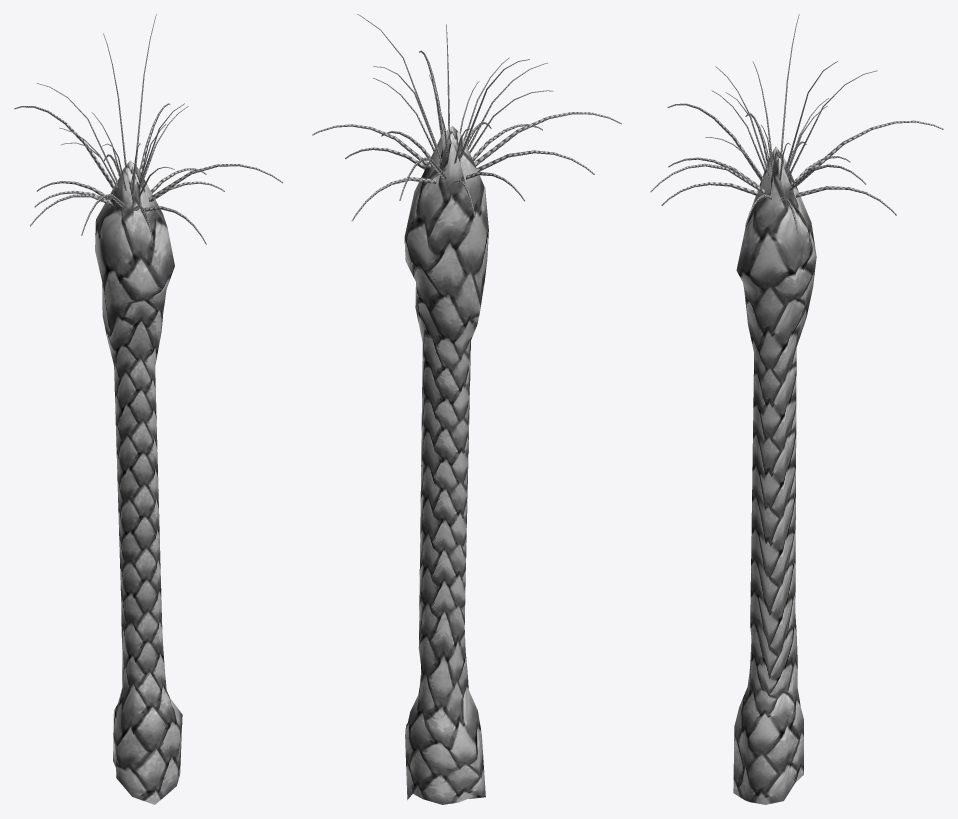
File: palmtrunk.fbx
The picture shows the model from 3 angles, left to right: view 1: azimuth 30°, elevation 25°; view 2: azimuth 150°, elevation 25°; view 3: azimuth 270°, elevation 25°; orthographic projection. The views are drawn at different scales.
Visible parts, largest first — view 1: palm_01_trunk; view 2: palm_01_trunk; view 3: palm_01_trunk.
Part boxes in pixels (x1=…): palm_01_trunk: x1=14, y1=14, x2=283, y2=804; palm_01_trunk: x1=312, y1=14, x2=621, y2=804; palm_01_trunk: x1=650, y1=14, x2=943, y2=804.
Size of the model in its own units: 1.08 by 3.7 by 1.3.
